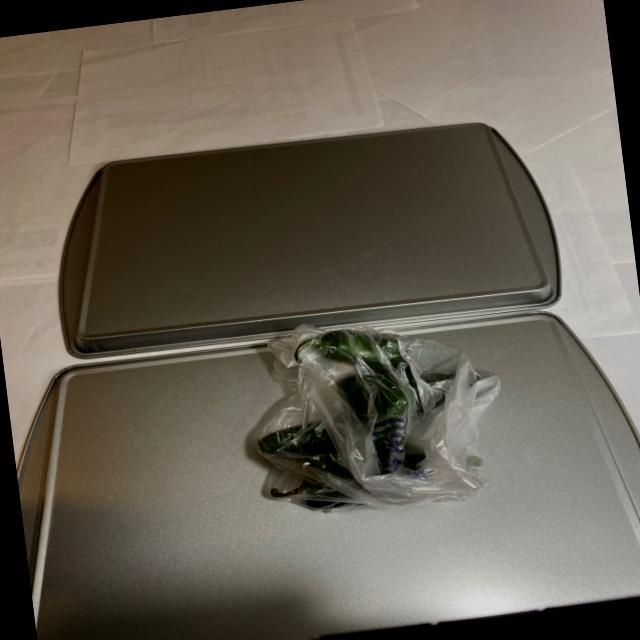chilli: (240, 315, 506, 520)
